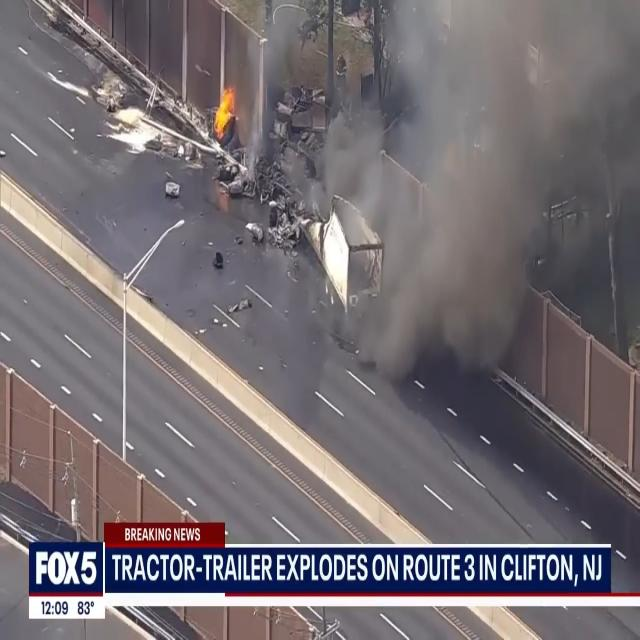fire: (210, 82, 236, 141)
